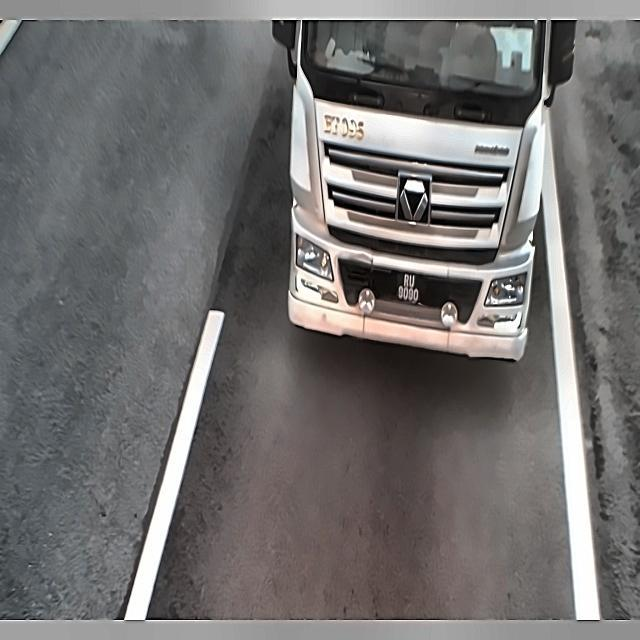car: (391, 256, 426, 314)
